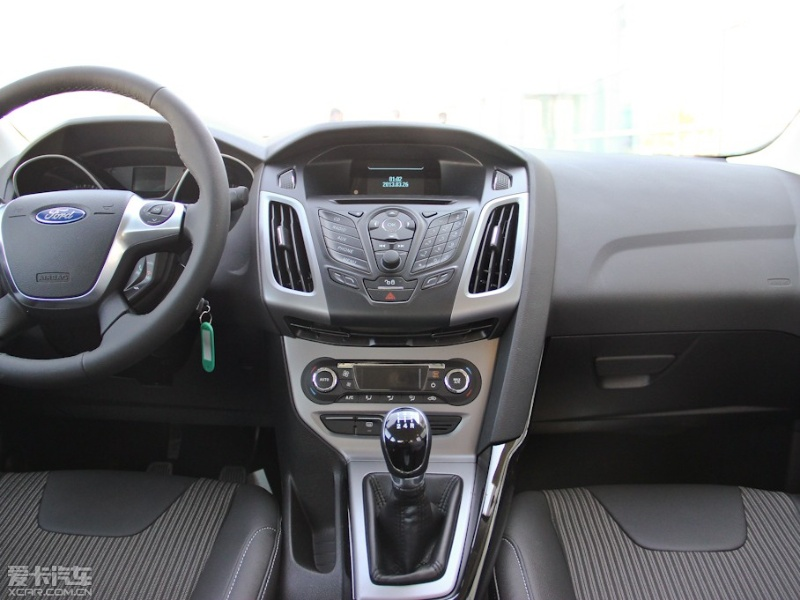control_center: (264, 128, 529, 375)
gear_lever: (297, 379, 489, 584)
odometer: (20, 115, 255, 196)
steering_wheel: (2, 56, 259, 372)
